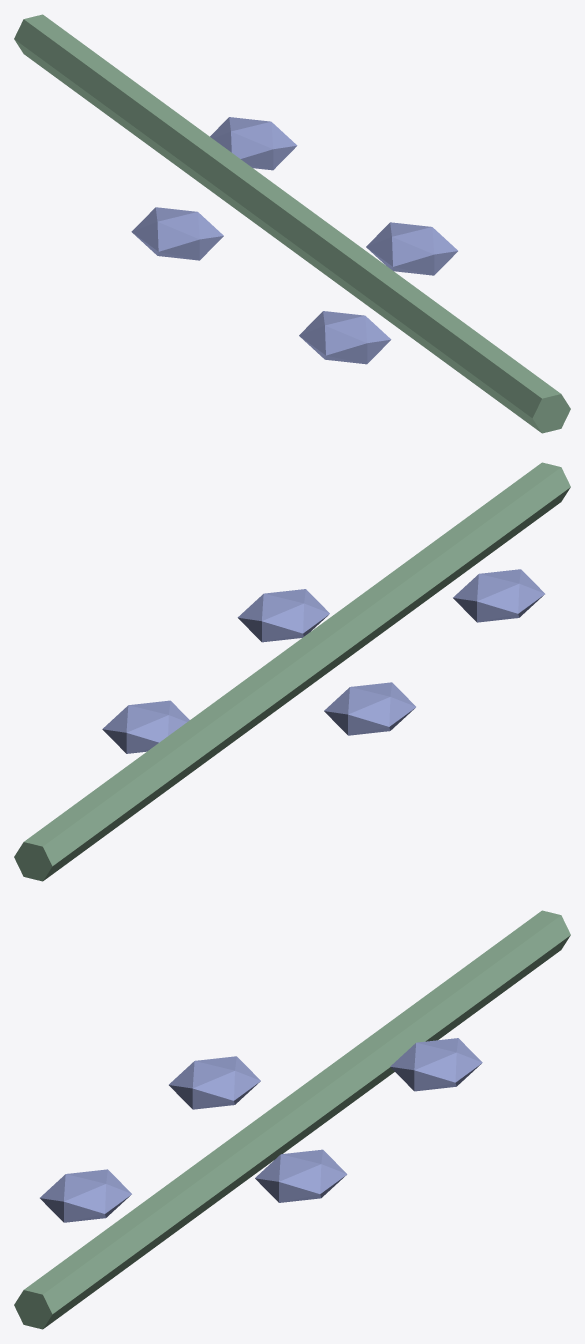
File: bluebell.glb
The picture shows the model from 3 angles, top to bottom: view 1: azimuth 30°, elevation 25°; view 2: azimuth 150°, elevation 25°; view 3: azimuth 330°, elevation 25°; orthographic projection.
Parts seen in each view (by area): view 1: world; view 2: world; view 3: world.
Part boxes in pixels (left/top/right/bottom): world: left=14, top=14, right=570, bottom=433; world: left=14, top=462, right=570, bottom=881; world: left=14, top=910, right=570, bottom=1329.
Bounding box in the file's own units: 0.3521 × 0.052 × 1.4.
